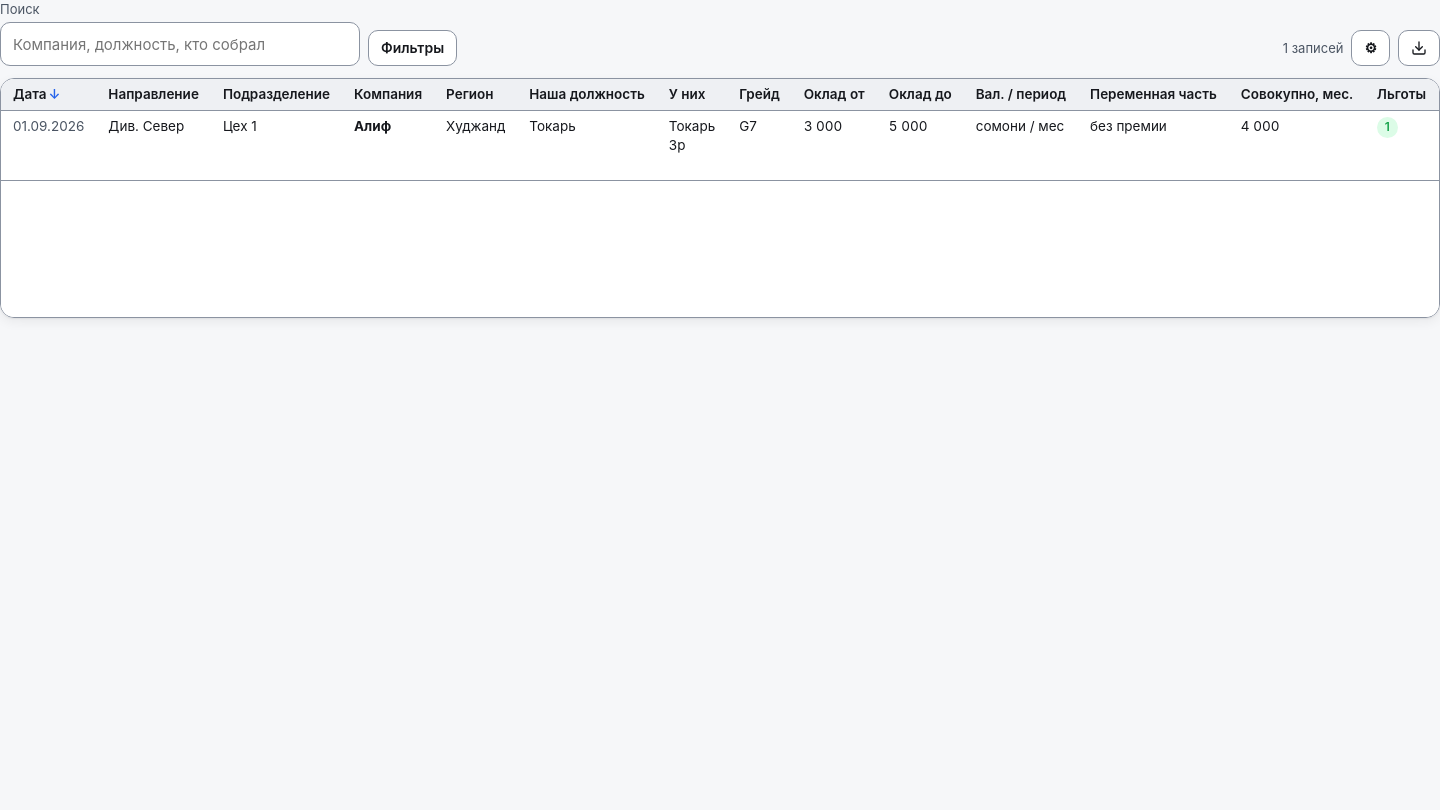
Test case: из карточки можно перейти к анкете
What coordinates should you click on to do the following:
click the cell "Алиф"
I would click on:
 (388, 145)
Its box is [342,111,434,180].
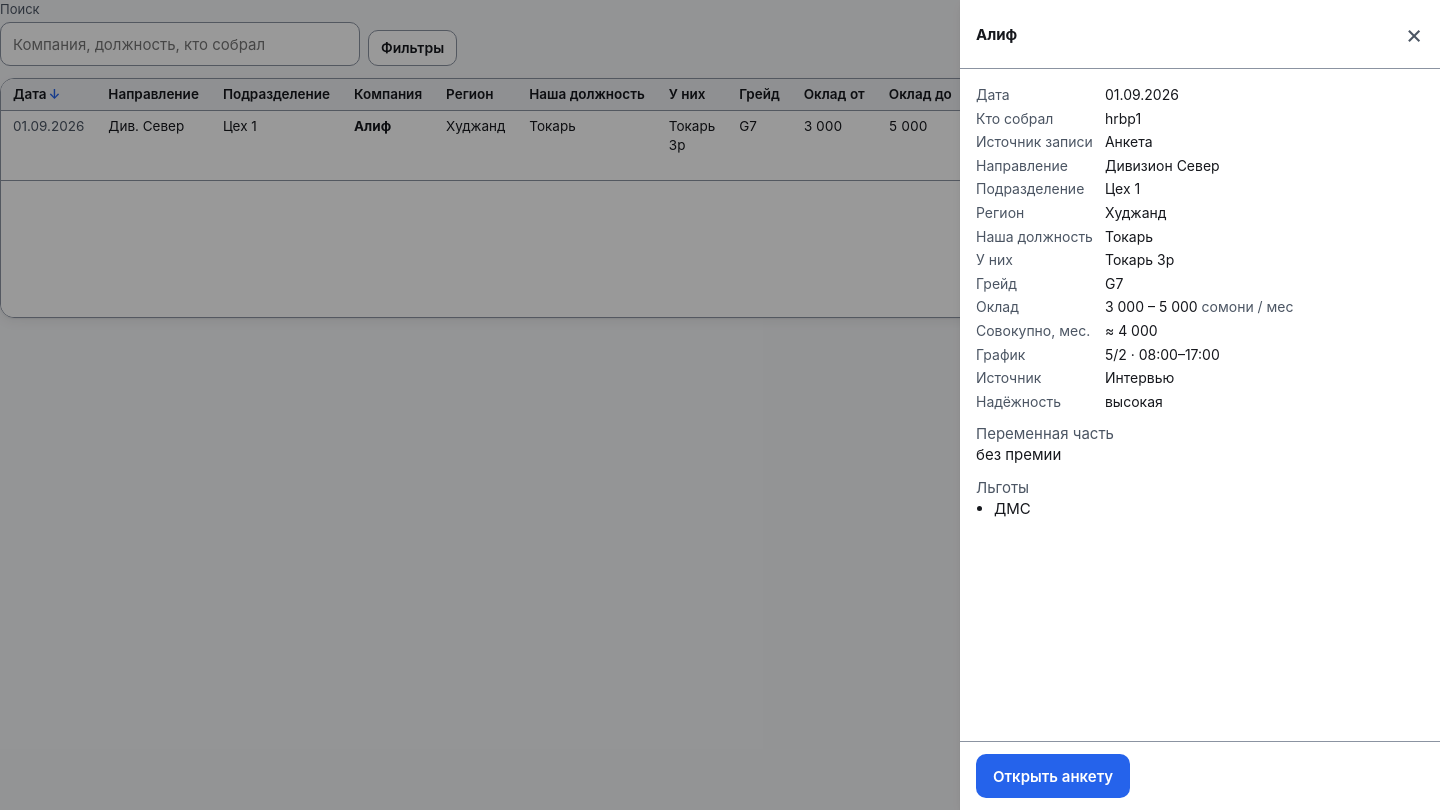
expect the button "Открыть анкету" is shown: met, box [976,754,1130,798]
